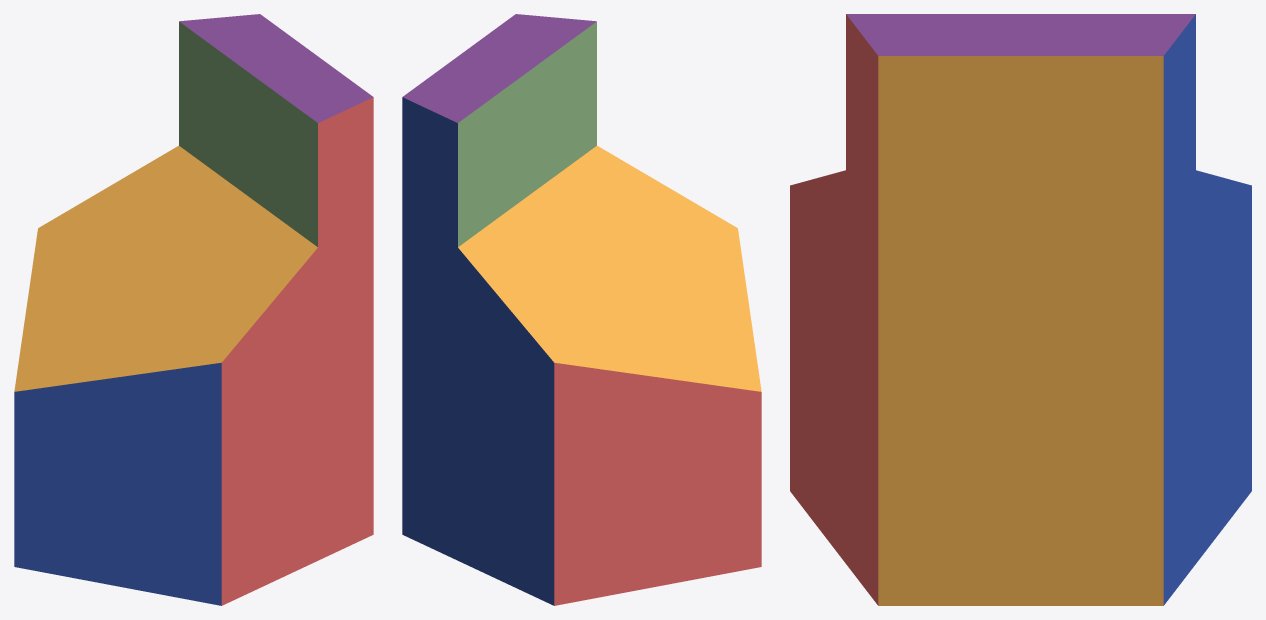
The picture shows the model from 3 angles, left to right: view 1: azimuth 30°, elevation 25°; view 2: azimuth 150°, elevation 25°; view 3: azimuth 270°, elevation 25°; orthographic projection. The views are drawn at different scales.
Visible parts, largest first — view 1: 3_8; view 2: 3_8; view 3: 3_8.
Part boxes in pixels (x1,y1,x2,y2): 3_8: (14, 14, 373, 605); 3_8: (402, 14, 761, 605); 3_8: (790, 14, 1251, 605).
Bounding box in the file's own units: 635 × 878 × 668.
